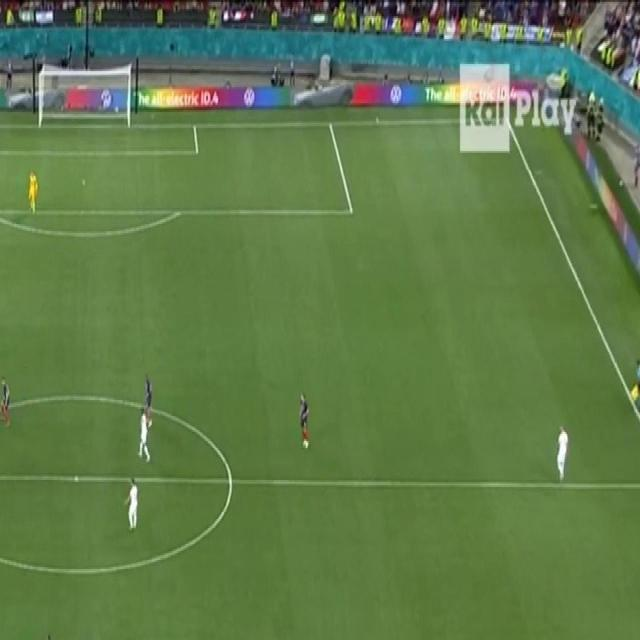another-player: (298, 390, 310, 450), (143, 372, 153, 428), (1, 376, 10, 426)
player-white: (556, 422, 570, 482), (124, 477, 138, 531), (138, 406, 150, 462), (42, 633, 55, 640)
referee: (27, 168, 39, 214)
